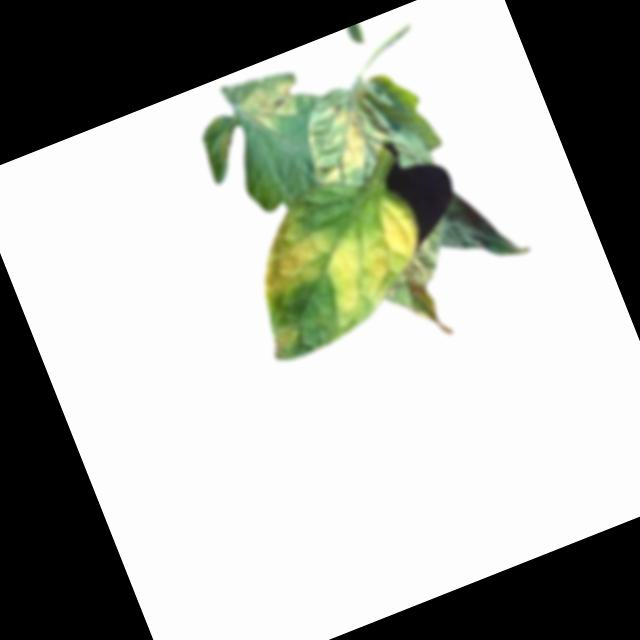Leaf_Mold: (227, 164, 446, 356), (293, 84, 397, 194), (234, 73, 304, 138)
